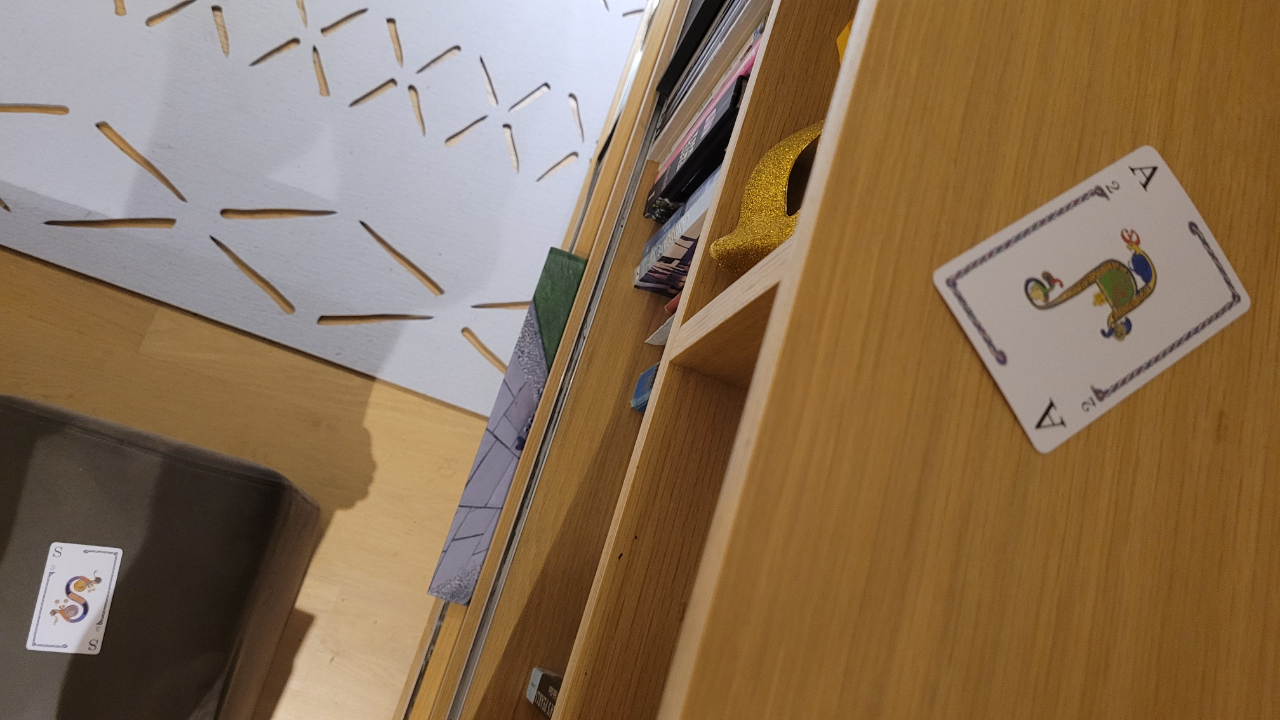quiddler_card: (906, 137, 1260, 459), (20, 533, 129, 662)
